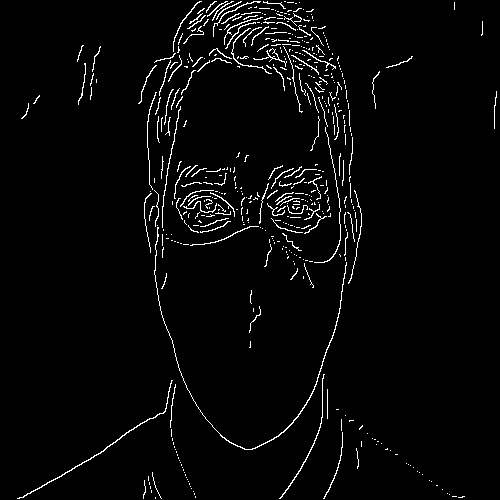mask: (153, 227, 348, 453)
